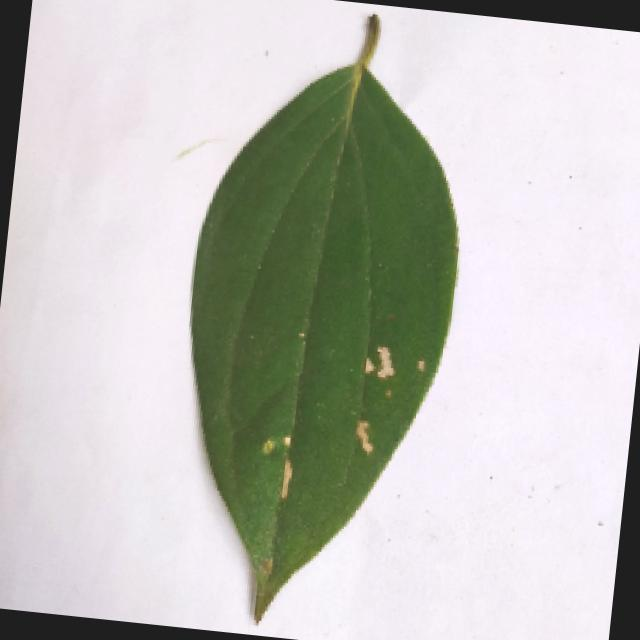pollu-disease: (151, 10, 480, 637)
